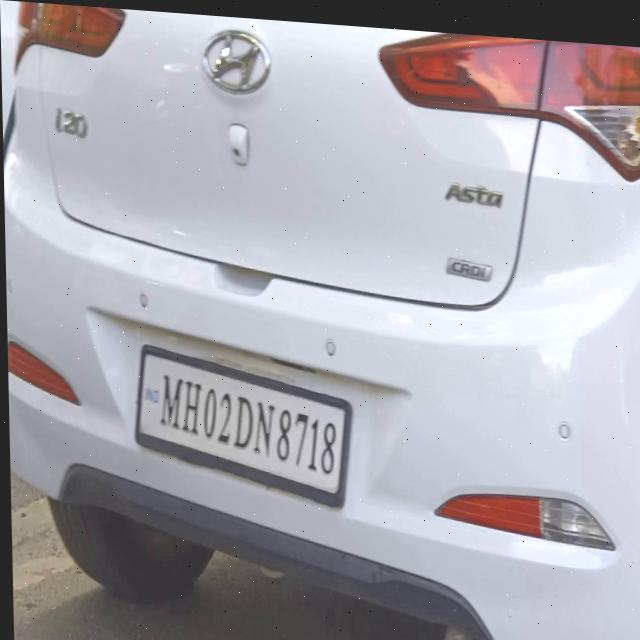plate: (129, 337, 355, 509)
